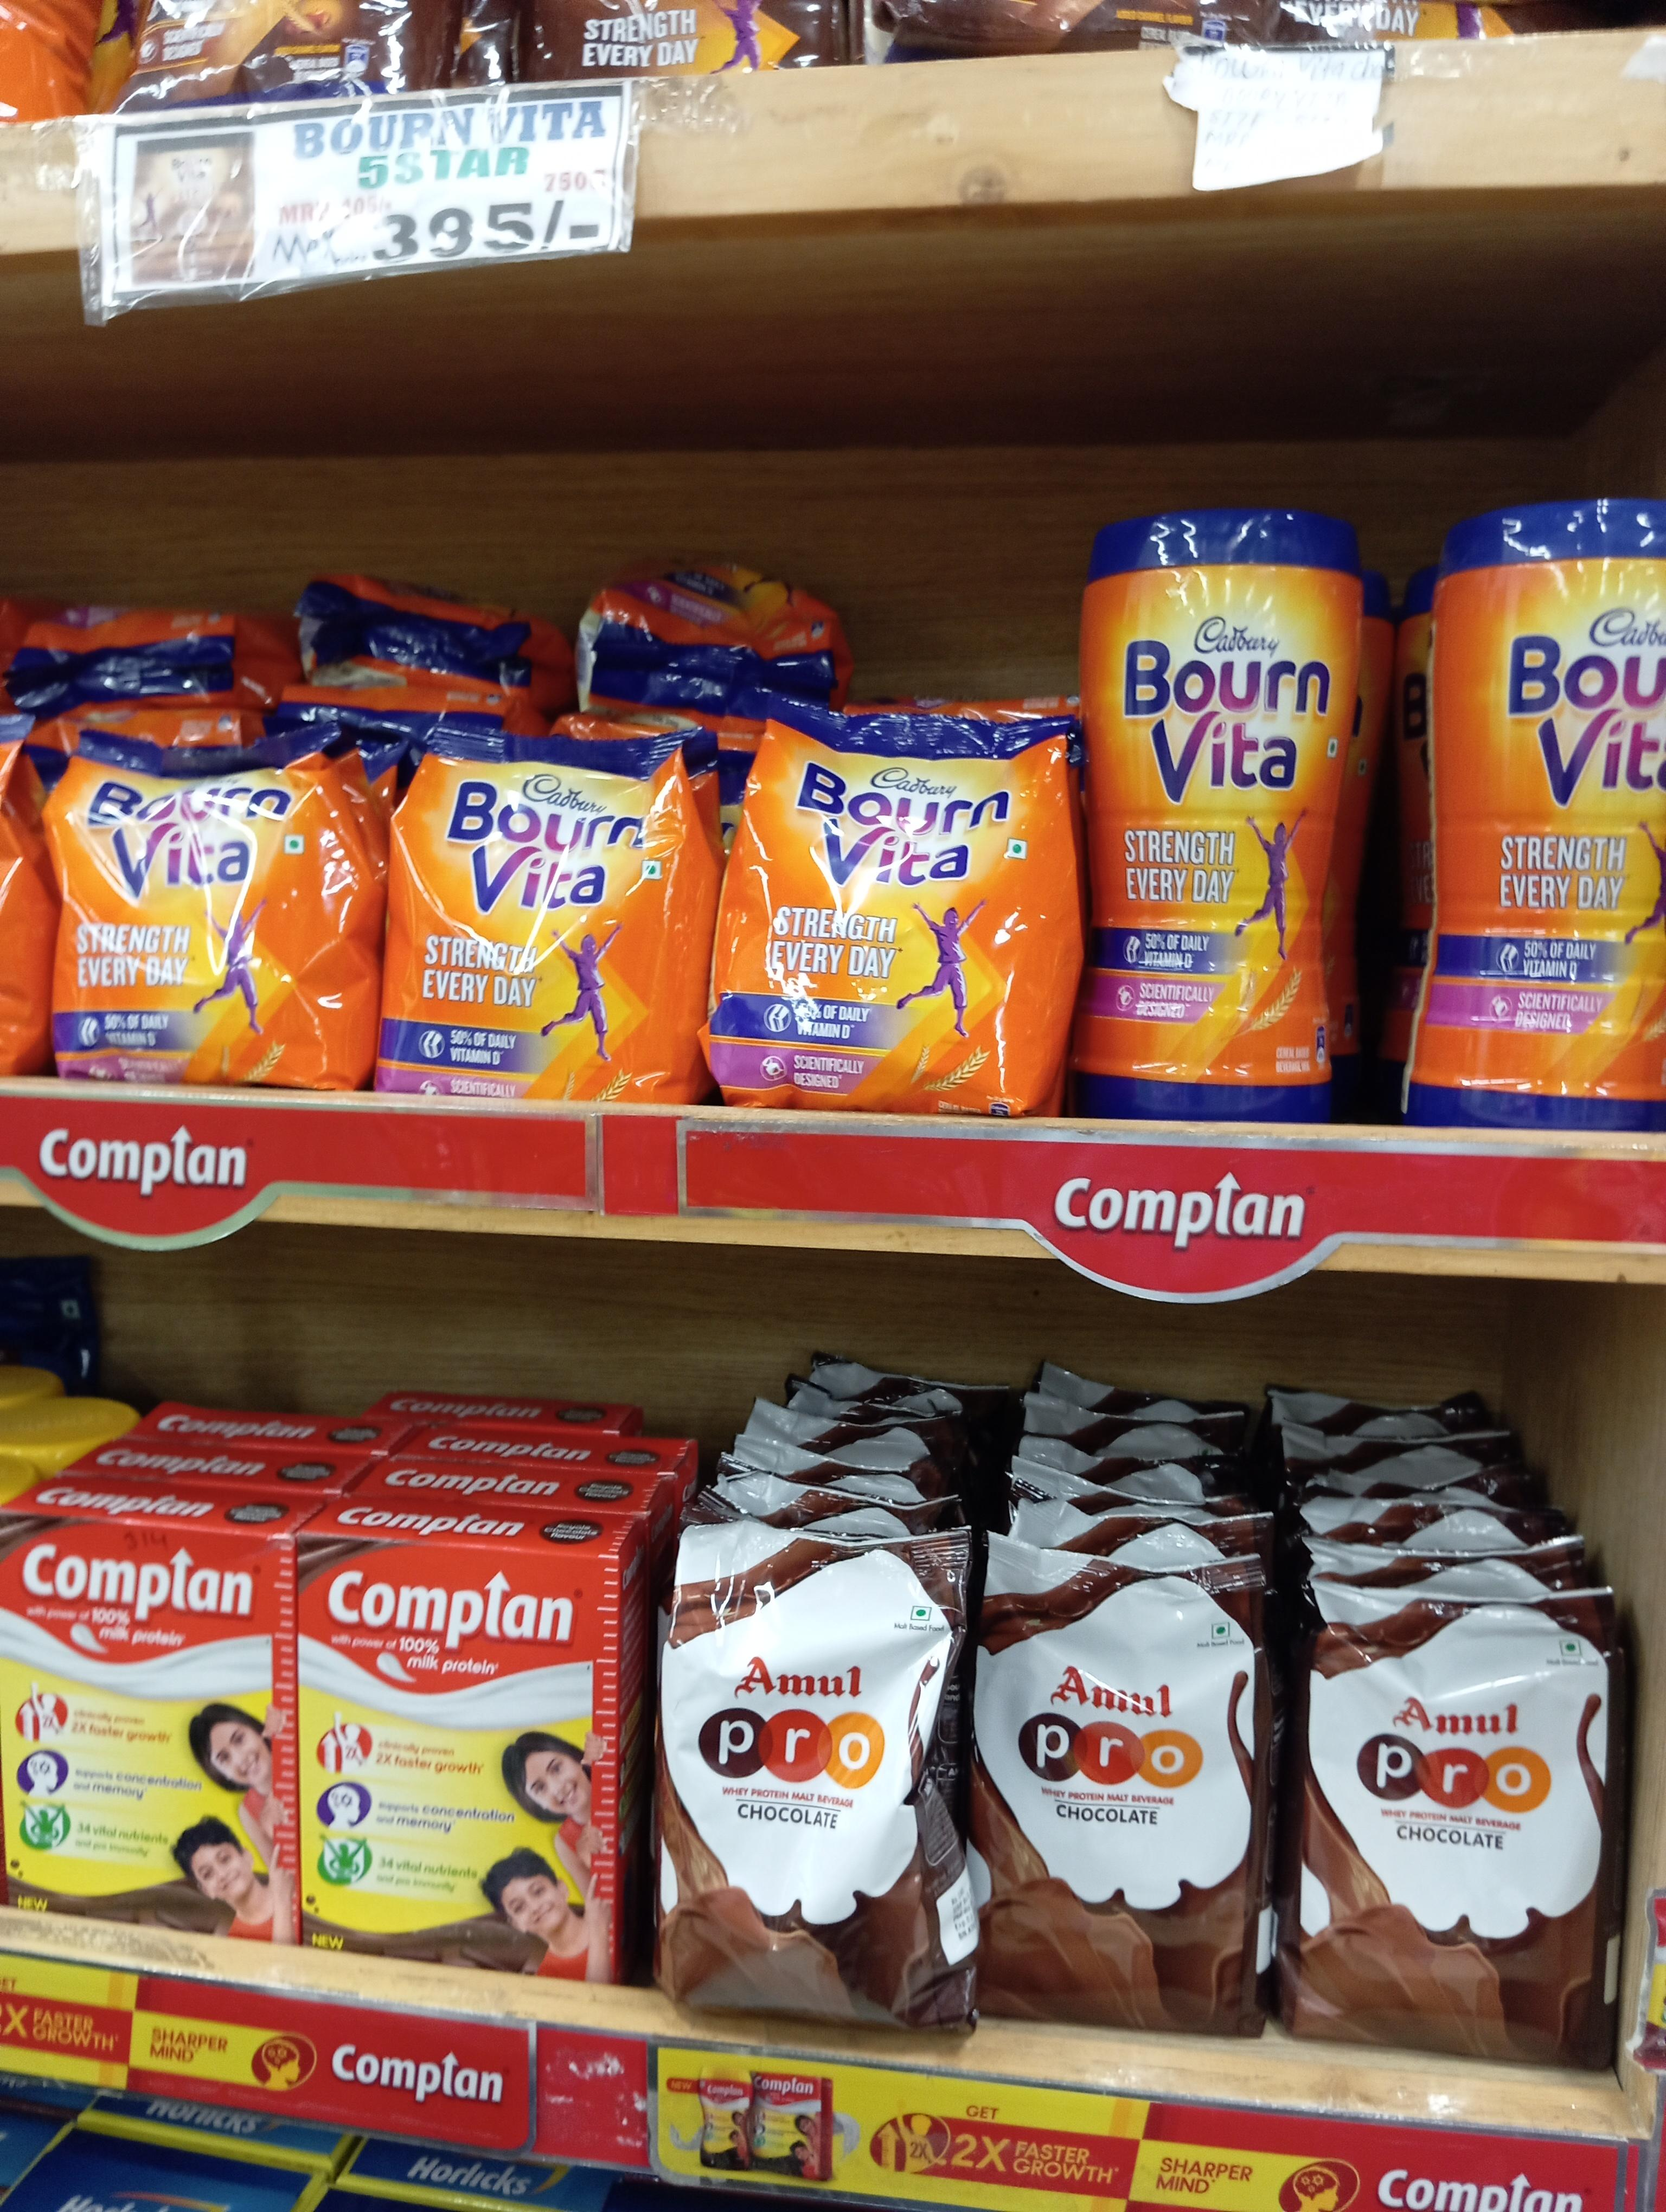BOURN_VITA_1_KG_JAR: (1085, 495, 1362, 1119), (1412, 467, 1666, 1130)
BOURN_VITA_500_G_POUCH: (725, 666, 1064, 1114), (49, 715, 364, 1091), (389, 713, 679, 1105)
COMPLAN_CHOCOLATE_500_GMS_PACK: (305, 1537, 614, 1978), (0, 1509, 294, 1932)
